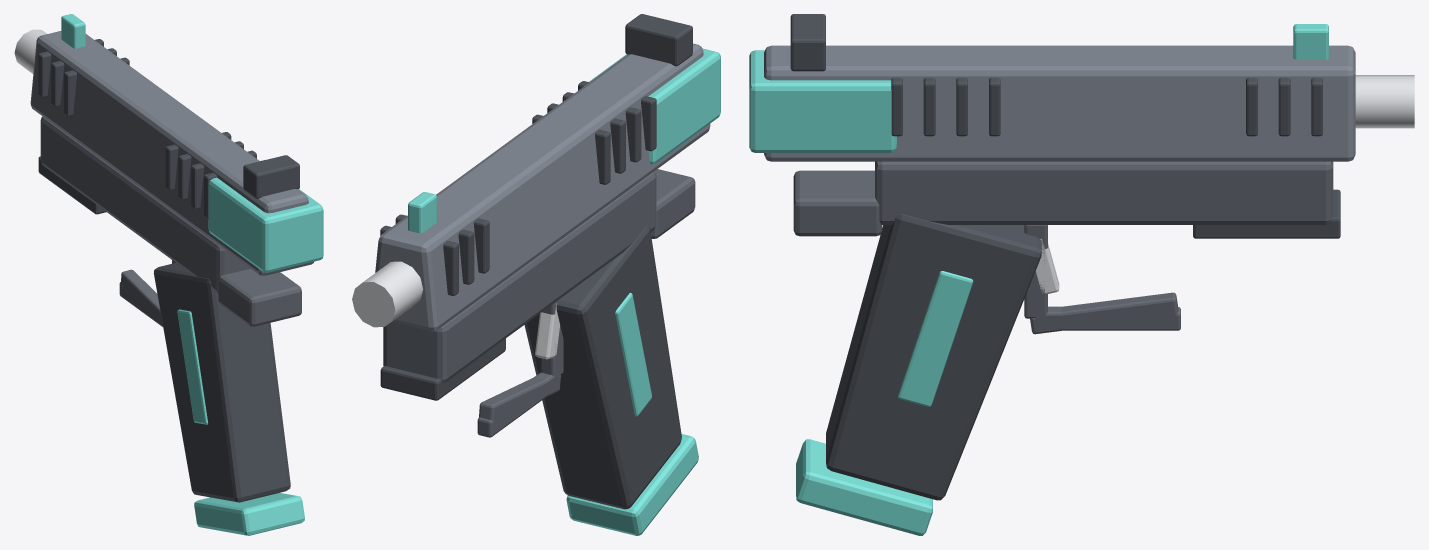
The model's file is weapon_pistol.glb.
3 renders of one model, left to right at view 1: azimuth 30°, elevation 25°; view 2: azimuth 150°, elevation 25°; view 3: azimuth 270°, elevation 25°, orthographic. The views are drawn at different scales.
Parts seen in each view (by area): view 1: weapon_pistol_v2; view 2: weapon_pistol_v2; view 3: weapon_pistol_v2.
Boxes of the visible parts, x1=… form: weapon_pistol_v2: x1=14, y1=14, x2=323, y2=535; weapon_pistol_v2: x1=352, y1=14, x2=720, y2=535; weapon_pistol_v2: x1=749, y1=14, x2=1414, y2=535.
Size of the model in its own units: 0.031 by 0.1839 by 0.225.
